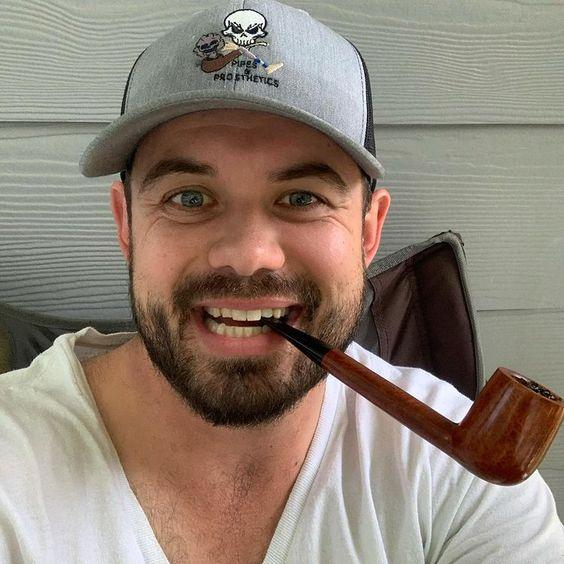trubka: (230, 318, 563, 485)
